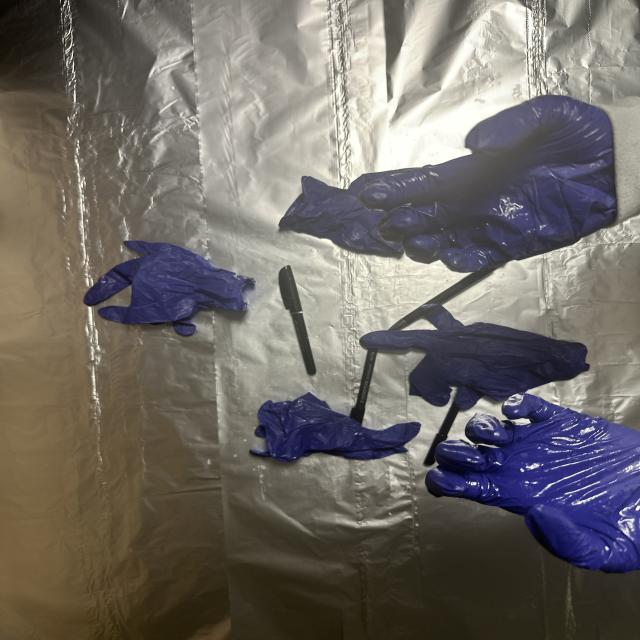gloves_contaminated: (359, 95, 623, 272), (426, 394, 640, 572)
